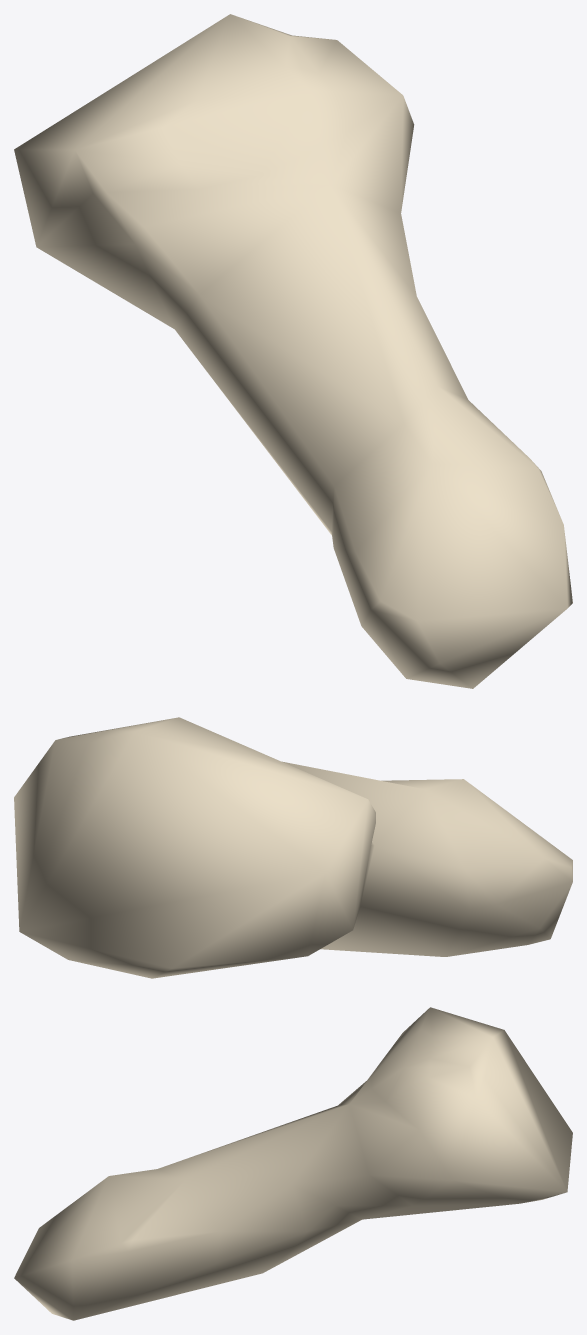
Rendered from distal-phalanx-of-fourth-finger-of-hand-r.glb.
3 renders of one model, top to bottom at view 1: azimuth 30°, elevation 25°; view 2: azimuth 150°, elevation 25°; view 3: azimuth 270°, elevation 25°, orthographic. The views are drawn at different scales.
Visible parts, largest first — view 1: Distal phalanx of fourth finger of hand.r; view 2: Distal phalanx of fourth finger of hand.r; view 3: Distal phalanx of fourth finger of hand.r.
Part boxes in pixels (x1=…): Distal phalanx of fourth finger of hand.r: x1=14, y1=14, x2=572, y2=688; Distal phalanx of fourth finger of hand.r: x1=14, y1=717, x2=572, y2=978; Distal phalanx of fourth finger of hand.r: x1=14, y1=1007, x2=572, y2=1320.
Size of the model in its own units: 0.00861 by 0.00961 by 0.0162.
